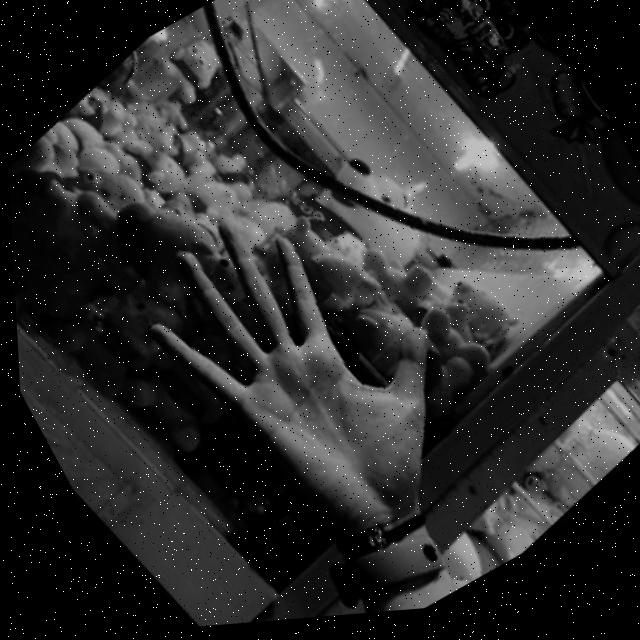hand: (110, 150, 525, 633)
